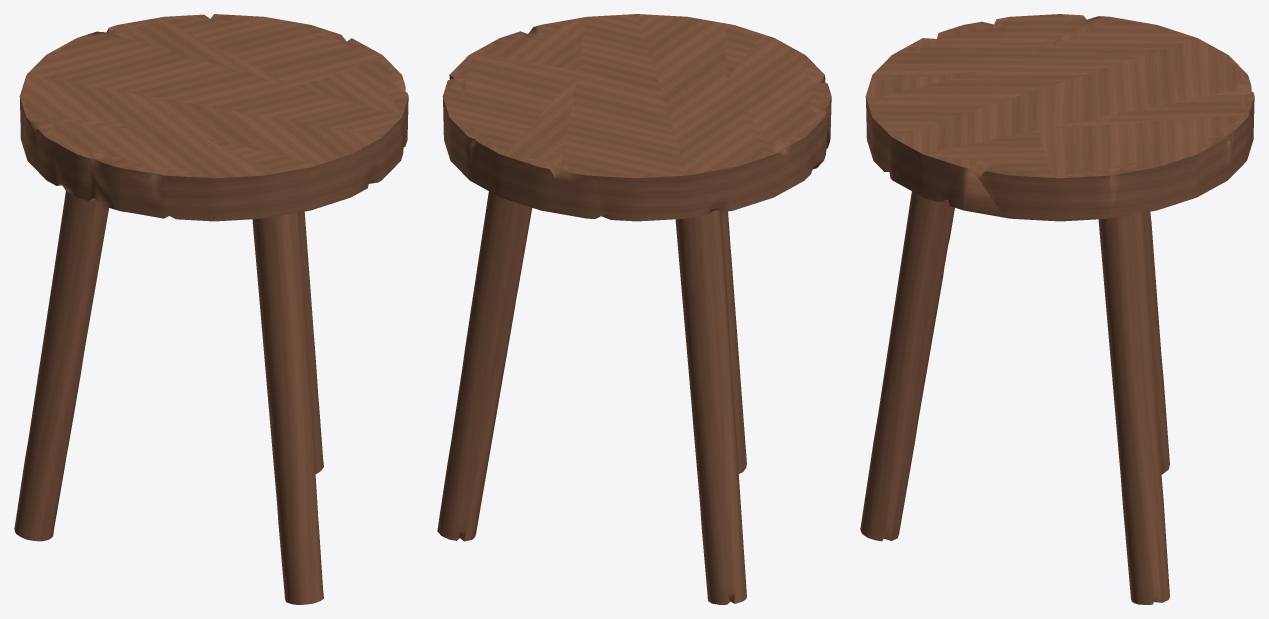
Rendered from measured.glb.
3 views of the same model, side by side, from view 1: azimuth 30°, elevation 25°; view 2: azimuth 150°, elevation 25°; view 3: azimuth 270°, elevation 25° (orthographic).
Visible parts, largest first — view 1: Round seat, Splayed leg, Splayed leg_2, Splayed leg_1; view 2: Round seat, Splayed leg_2, Splayed leg_1, Splayed leg; view 3: Round seat, Splayed leg_1, Splayed leg, Splayed leg_2.
Boxes of the visible parts, box(x1,y1,x2,y2) form: Round seat: box(19, 14, 408, 221); Splayed leg: box(252, 213, 323, 604); Splayed leg_2: box(14, 191, 108, 541); Splayed leg_1: box(298, 211, 323, 473); Round seat: box(442, 14, 831, 221); Splayed leg_2: box(675, 210, 746, 604); Splayed leg_1: box(437, 191, 532, 541); Splayed leg: box(721, 211, 746, 473); Round seat: box(865, 14, 1254, 221); Splayed leg_1: box(1098, 211, 1169, 604); Splayed leg: box(860, 191, 954, 541); Splayed leg_2: box(1144, 212, 1169, 474).
Bounding box in the file's own units: 0.364 × 0.4537 × 0.3691.
Materials: 1 (1 with a texture image).
